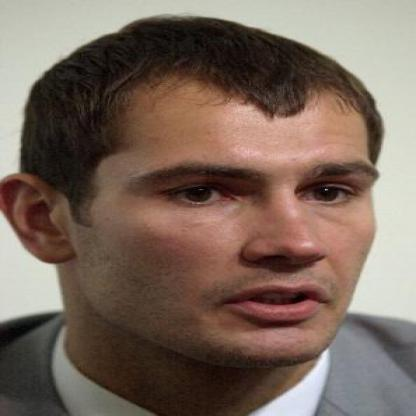face: (64, 30, 400, 378)
